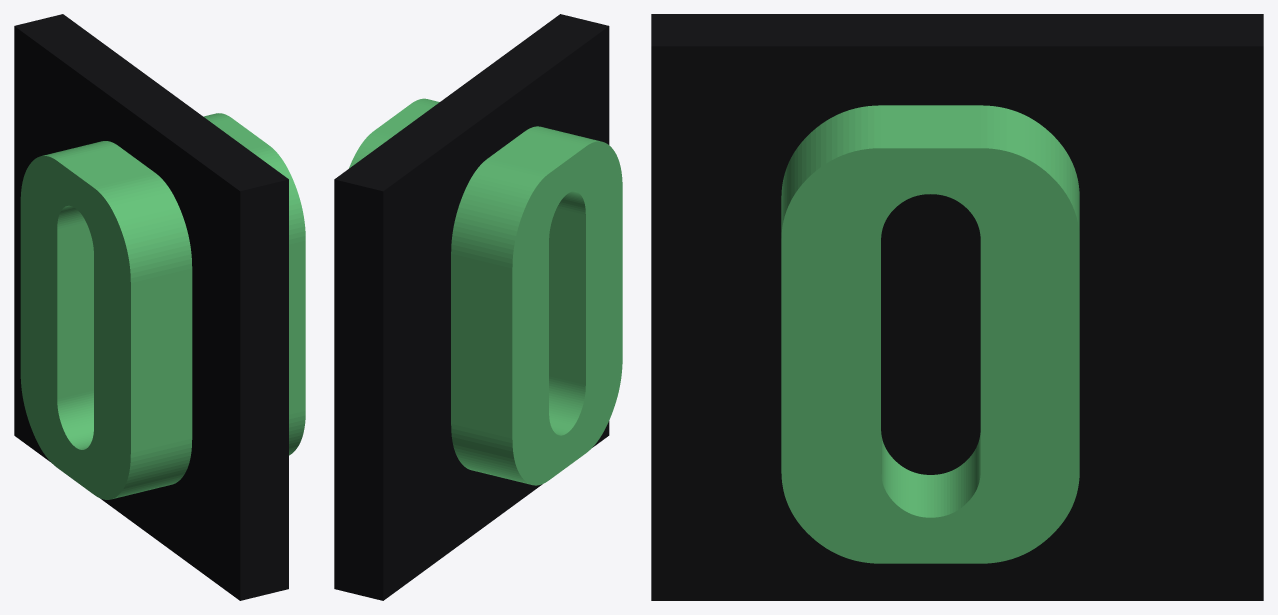
Rendered from letter_O.obj.
3 renders of one model, left to right at view 1: azimuth 30°, elevation 25°; view 2: azimuth 150°, elevation 25°; view 3: azimuth 270°, elevation 25°, orthographic. The views are drawn at different scales.
Visible parts, largest first — view 1: window, Text; view 2: window, Text; view 3: window, Text.
Part boxes in pixels (left/top/right/bottom): window: left=14, top=14, right=288, bottom=600; Text: left=20, top=113, right=305, bottom=499; window: left=334, top=14, right=609, bottom=600; Text: left=349, top=98, right=622, bottom=485; window: left=651, top=14, right=1263, bottom=600; Text: left=781, top=105, right=1079, bottom=563.
Bounding box in the file's own units: 0.894 × 2 × 2.
